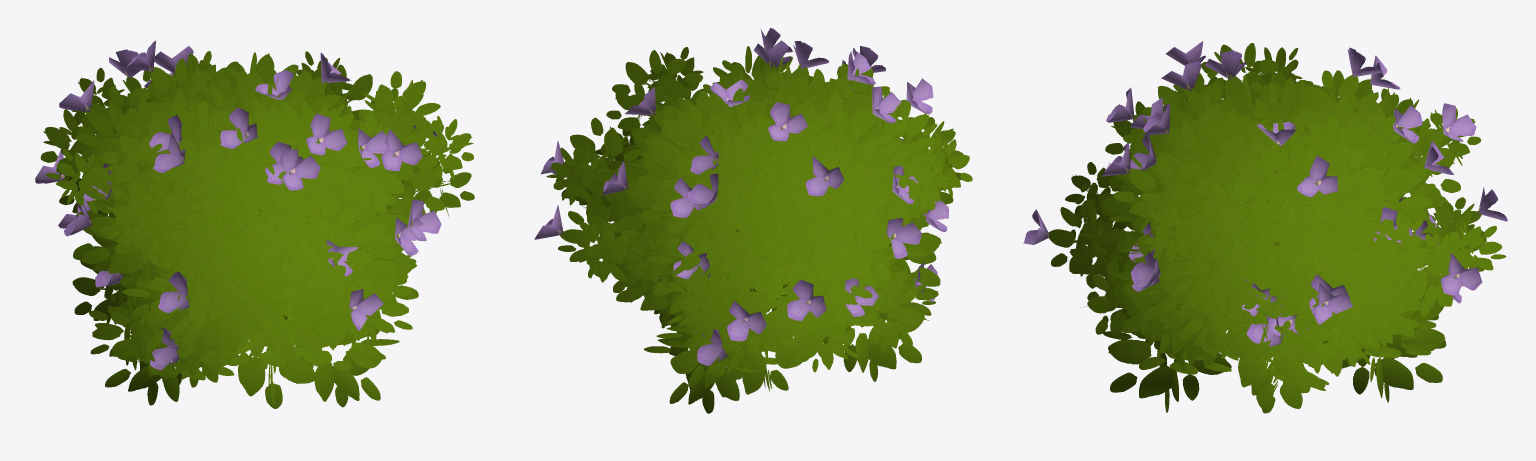
File: plant_qt_bush_flowers.glb
3 renders of one model, left to right at view 1: azimuth 30°, elevation 25°; view 2: azimuth 150°, elevation 25°; view 3: azimuth 270°, elevation 25°, orthographic. The views are drawn at different scales.
Visible parts, largest first — view 1: Bush_Common_Flowers; view 2: Bush_Common_Flowers; view 3: Bush_Common_Flowers.
Part boxes in pixels (bbox=[...]): Bush_Common_Flowers: bbox=[35, 40, 474, 408]; Bush_Common_Flowers: bbox=[534, 27, 972, 413]; Bush_Common_Flowers: bbox=[1023, 41, 1507, 413].
Bounding box in the file's own units: 1.91 × 1.58 × 1.97.
Materials: 2 (2 with a texture image).
